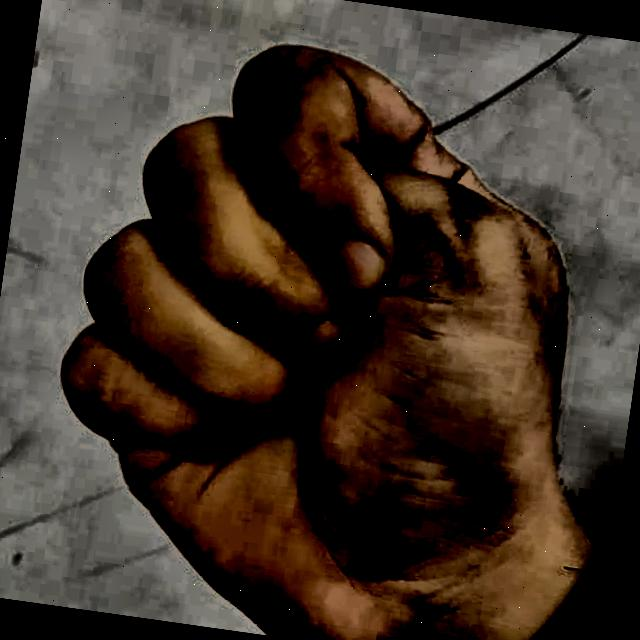To: (4, 0, 638, 640)
